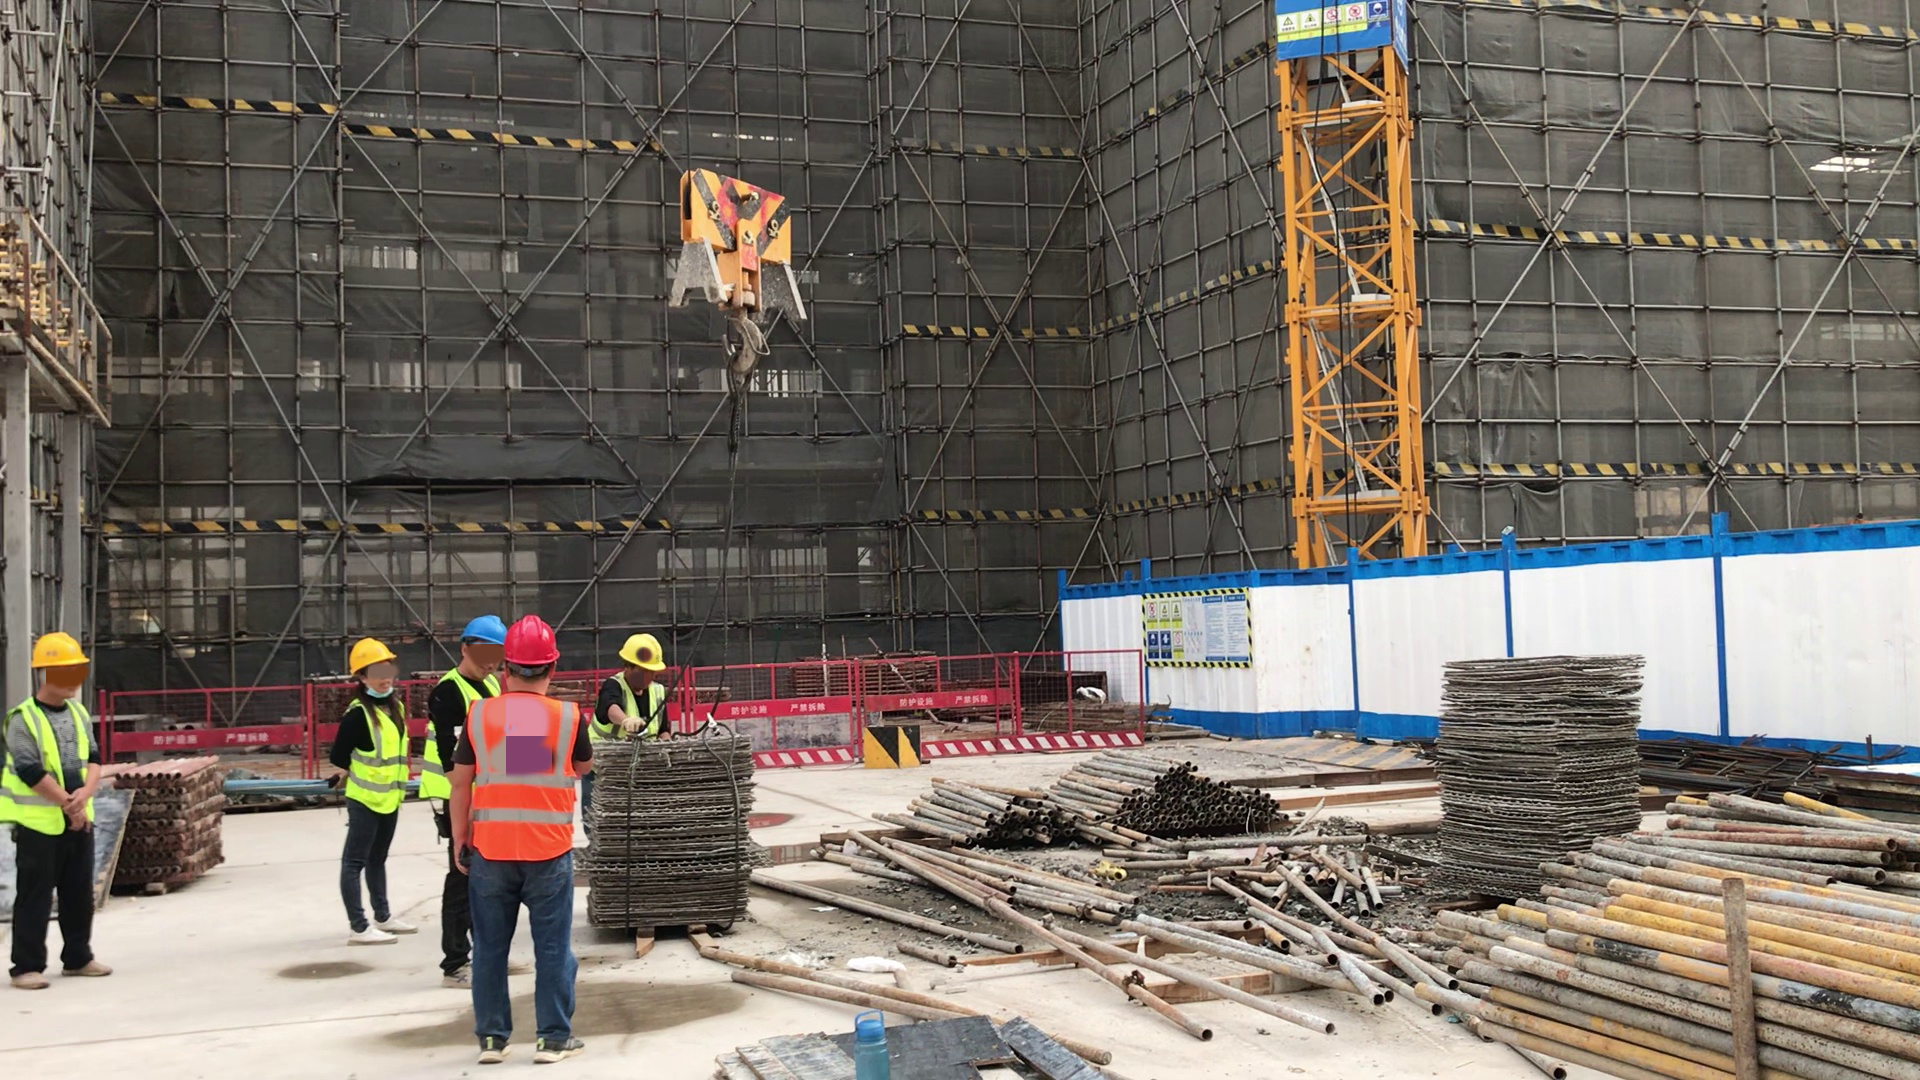fence: (925, 647, 1143, 754), (94, 681, 320, 749), (740, 653, 857, 767)
helmet: (503, 615, 561, 665), (27, 634, 91, 668), (346, 639, 397, 677), (618, 635, 668, 673), (458, 615, 504, 646)
hook: (665, 161, 818, 376)
person: (445, 611, 592, 1069), (8, 632, 125, 991), (329, 634, 425, 957), (587, 632, 672, 741), (424, 614, 505, 702)
scaffold: (1422, 846, 1920, 1078), (1648, 780, 1920, 898), (1077, 749, 1293, 837), (888, 775, 1078, 861), (133, 750, 225, 898)
slogan: (1143, 595, 1251, 667), (1278, 1, 1393, 54)
vest: (457, 691, 582, 865), (1, 699, 102, 837), (344, 695, 410, 815), (589, 672, 664, 741)
